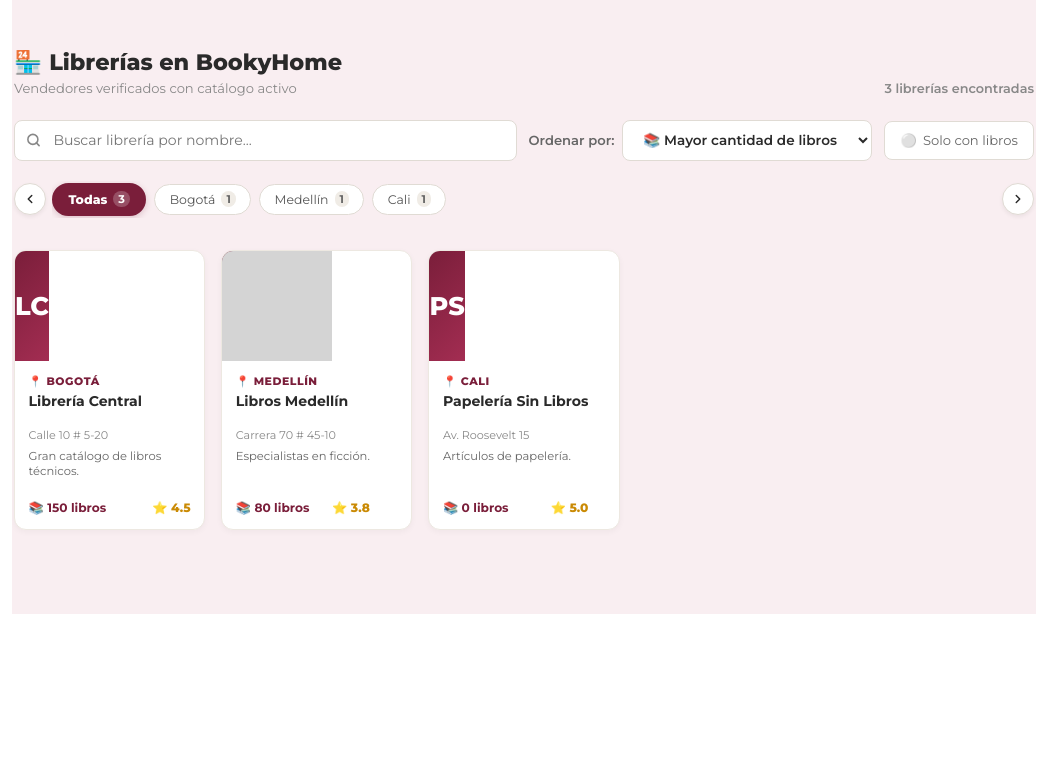
Test: Librerias — toggle "Solo con libros" › oculta tiendas con 0 libros al activar el filtro
expect the heading "Papelería Sin Libros" is shown: met, box left=443, top=392, right=588, bottom=410
Step 1. Click the button "⚪ Solo con libros" → (959, 140), box left=884, top=121, right=1034, bottom=160
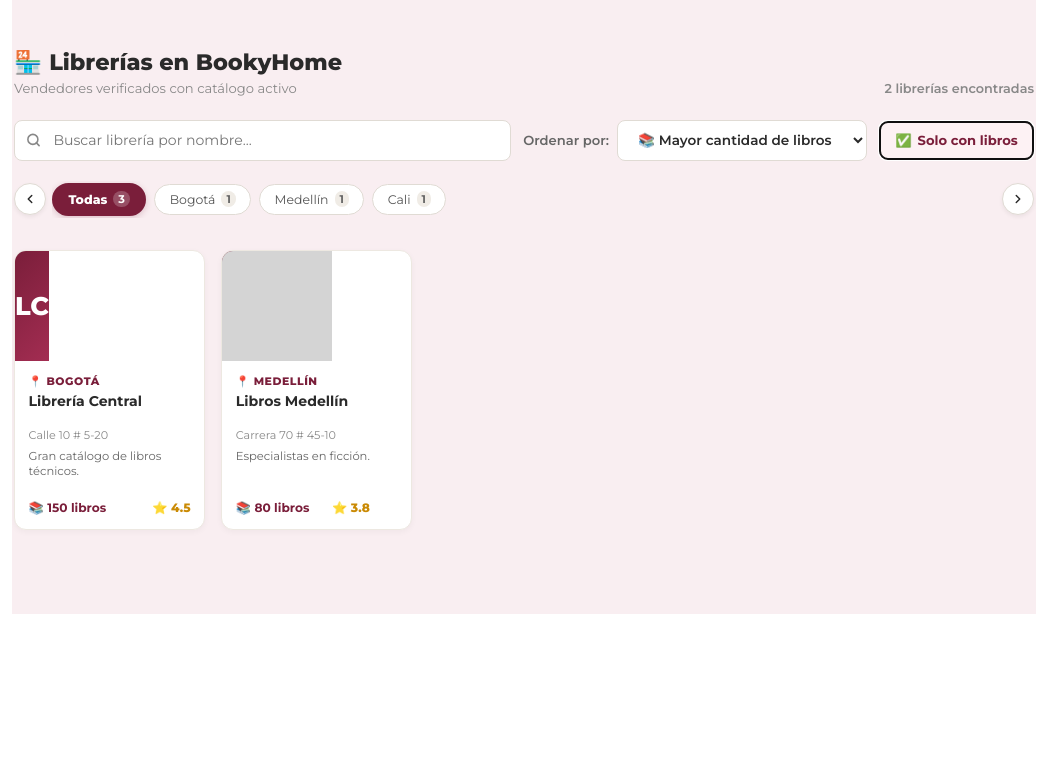
expect the heading "Librería Central" is shown: met, box left=29, top=392, right=142, bottom=410
expect the button "Papelería Sin Libros" is gone: met
